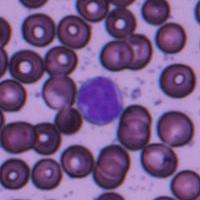M: (76, 75, 123, 125)
